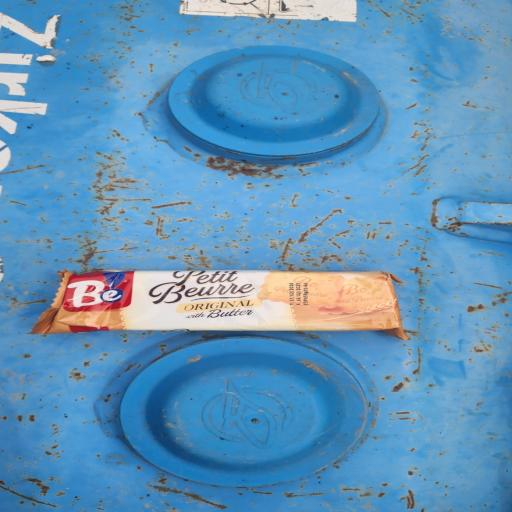petit-beurre: (25, 243, 454, 401)
